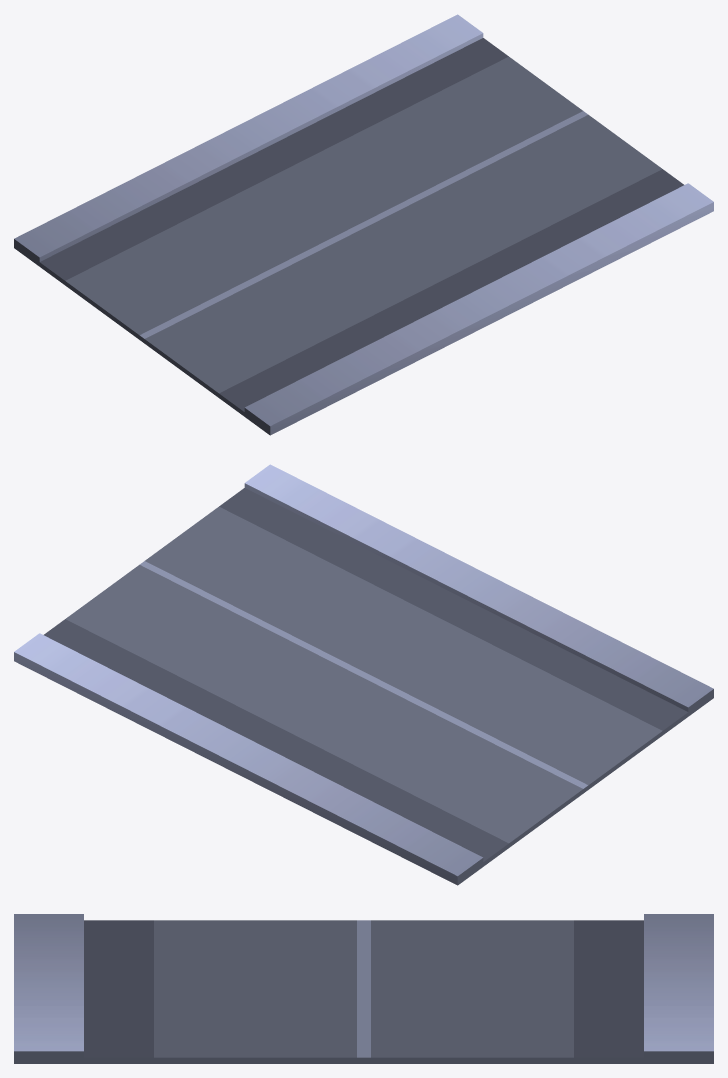
File: road-slant-flat.glb
The picture shows the model from 3 angles, top to bottom: view 1: azimuth 30°, elevation 25°; view 2: azimuth 150°, elevation 25°; view 3: azimuth 270°, elevation 25°; orthographic projection. The views are drawn at different scales.
Parts seen in each view (by area): view 1: road-slant-flat; view 2: road-slant-flat; view 3: road-slant-flat.
Boxes of the visible parts, bbox=[...] form: road-slant-flat: bbox=[14, 14, 713, 435]; road-slant-flat: bbox=[14, 464, 713, 885]; road-slant-flat: bbox=[14, 914, 713, 1063].
Bounding box in the file's own units: 10 × 2.7 × 10.
1 material, 1 textured.
